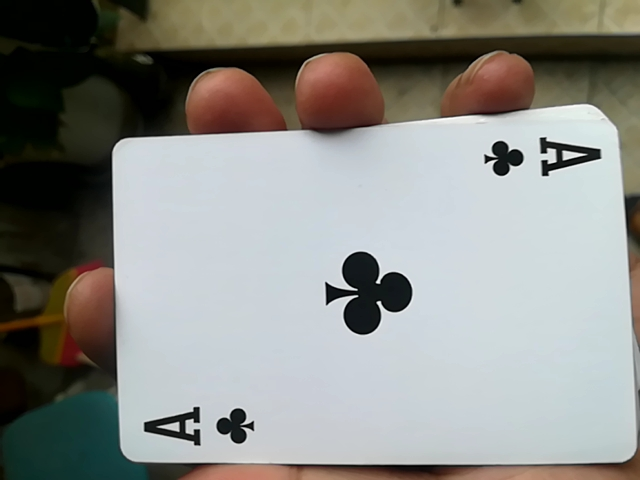mh a: (92, 119, 633, 479)
